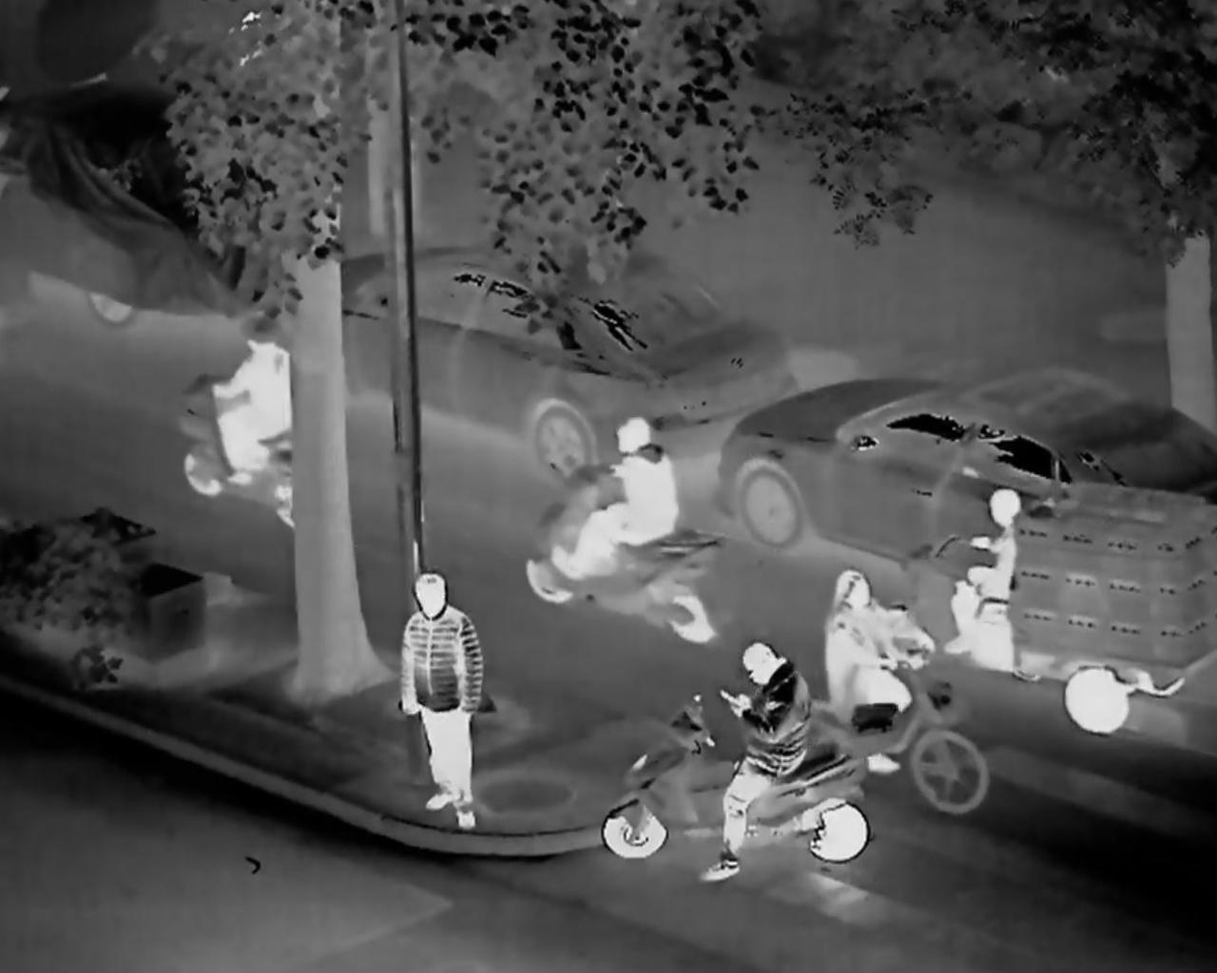person: (370, 569, 507, 834), (707, 632, 820, 925), (543, 410, 691, 620), (812, 553, 953, 747), (177, 315, 304, 497), (937, 474, 1049, 677)
